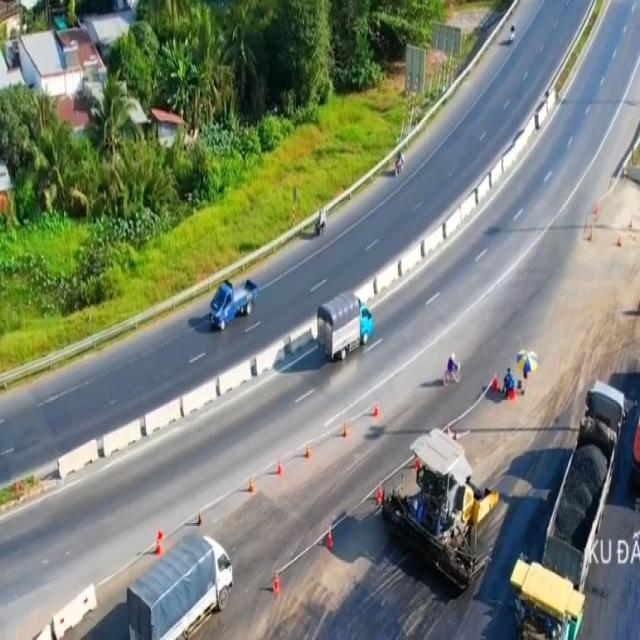truck: (120, 509, 234, 638), (317, 288, 375, 363), (206, 275, 258, 338)
